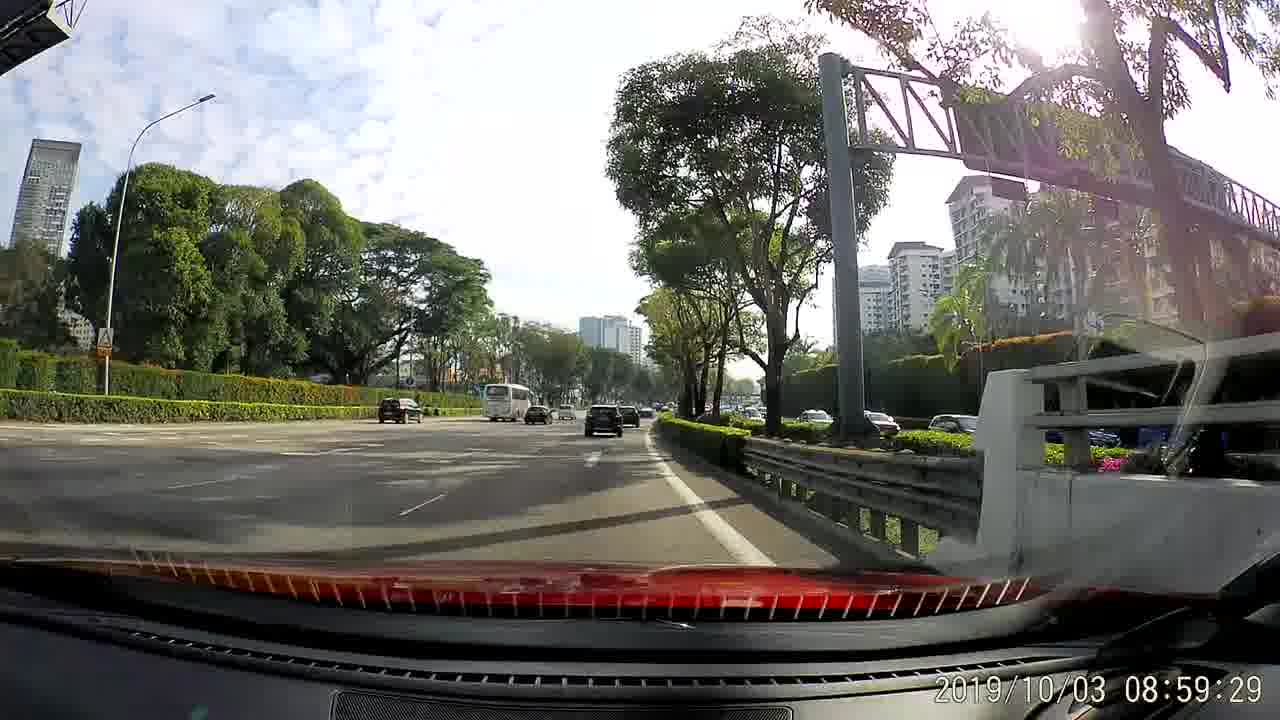car: (582, 403, 626, 438), (375, 395, 425, 423), (524, 403, 554, 427), (613, 403, 640, 424), (555, 400, 577, 423), (636, 406, 657, 417)
